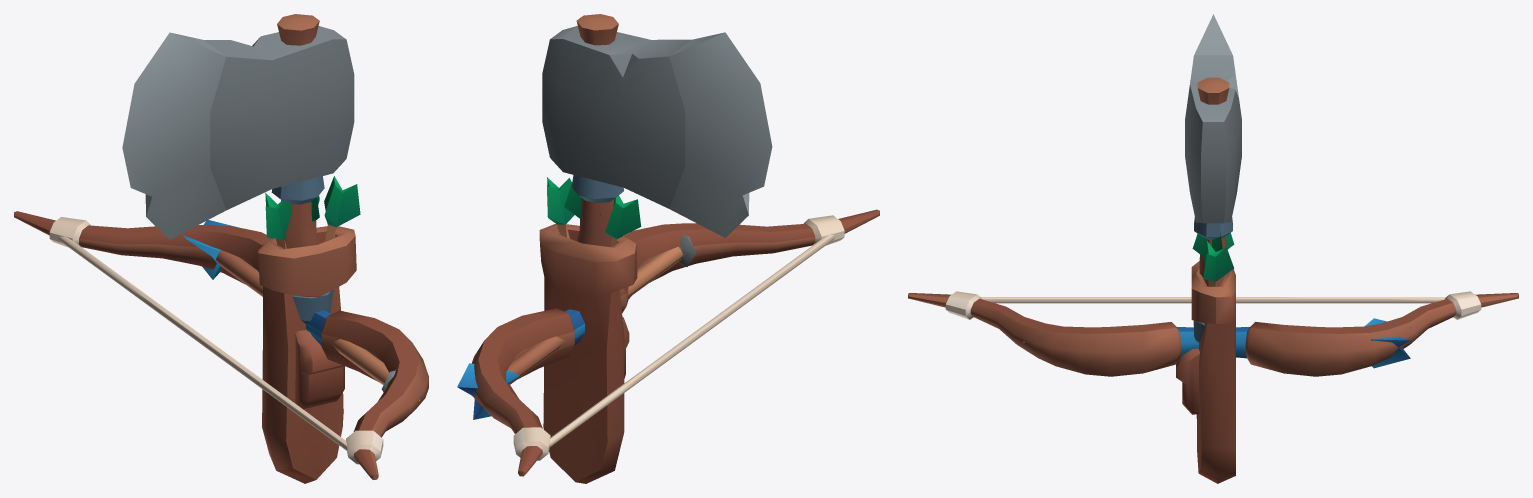
Rendered from weapons2.glb.
3 views of the same model, side by side, from view 1: azimuth 30°, elevation 25°; view 2: azimuth 150°, elevation 25°; view 3: azimuth 270°, elevation 25° (orthographic). The views are drawn at different scales.
Parts seen in each view (by area): view 1: axe_1h, quiver, bow, arrow; view 2: axe_1h, quiver, bow, arrow; view 3: bow, quiver, axe_1h.
Part boxes in pixels (left/top/right/bottom): axe_1h: left=122, top=14, right=354, bottom=411; quiver: left=258, top=176, right=360, bottom=483; bow: left=14, top=211, right=428, bottom=479; arrow: left=183, top=220, right=419, bottom=400; axe_1h: left=542, top=14, right=772, bottom=246; quiver: left=539, top=177, right=641, bottom=483; bow: left=471, top=209, right=879, bottom=476; arrow: left=457, top=235, right=696, bottom=419; bow: left=908, top=291, right=1518, bottom=376; quiver: left=1176, top=233, right=1235, bottom=483; axe_1h: left=1185, top=14, right=1241, bottom=418.
Size of the model in its own units: 0.7416 by 1.48 by 1.98.
3 materials, 3 textured.
